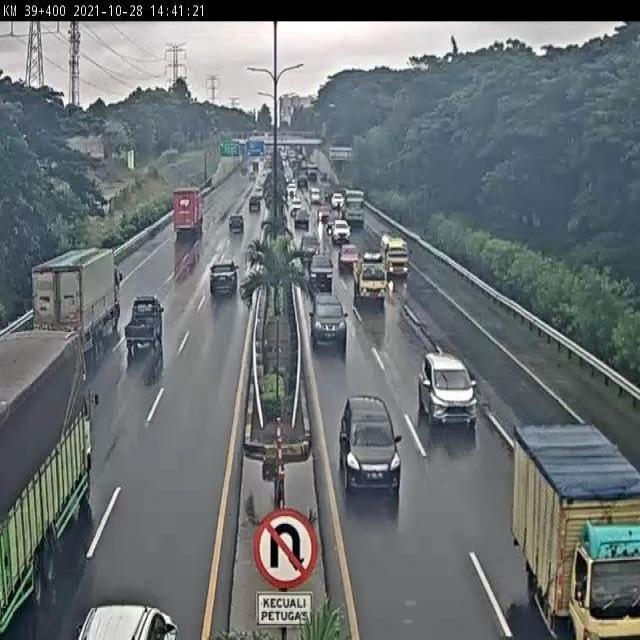Bus: (381, 236, 410, 283)
Car: (334, 395, 403, 505), (418, 352, 484, 437), (123, 288, 165, 366), (309, 293, 350, 351), (207, 260, 240, 301), (226, 212, 247, 235)
Truck: (0, 326, 100, 636), (508, 411, 640, 640), (34, 240, 122, 357), (173, 183, 208, 237)
